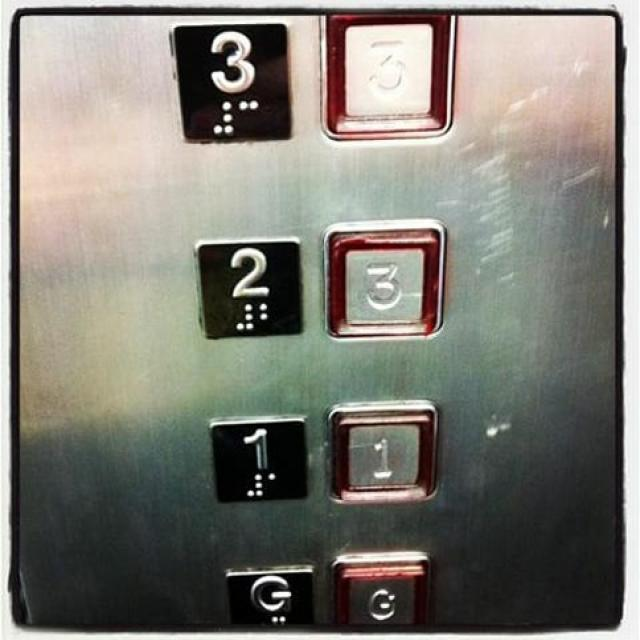1: (324, 396, 439, 500), (209, 412, 309, 505)
2: (192, 235, 309, 341)
3: (318, 12, 458, 144), (166, 19, 295, 144), (320, 216, 446, 343)
G: (226, 558, 317, 630)
unknown: (329, 549, 431, 631)
